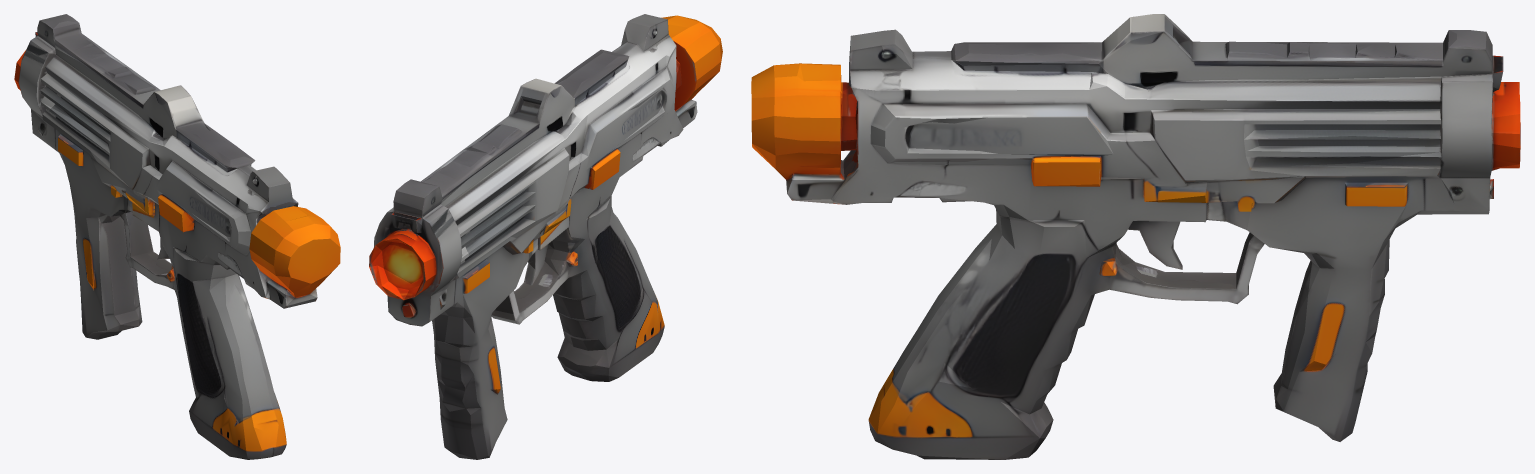
File: heavy_pistol.gltf
3 renders of one model, left to right at view 1: azimuth 30°, elevation 25°; view 2: azimuth 150°, elevation 25°; view 3: azimuth 270°, elevation 25°, orthographic. The views are drawn at different scales.
Visible parts, largest first — view 1: model; view 2: model; view 3: model.
Boxes of the visible parts, x1,y1,x2,y2 form: model: (14,14,340,459); model: (369,14,722,459); model: (751,14,1520,459).
Size of the model in its own units: 0.2705 by 1.15 by 1.9.
Materials: 1 (1 with a texture image).
